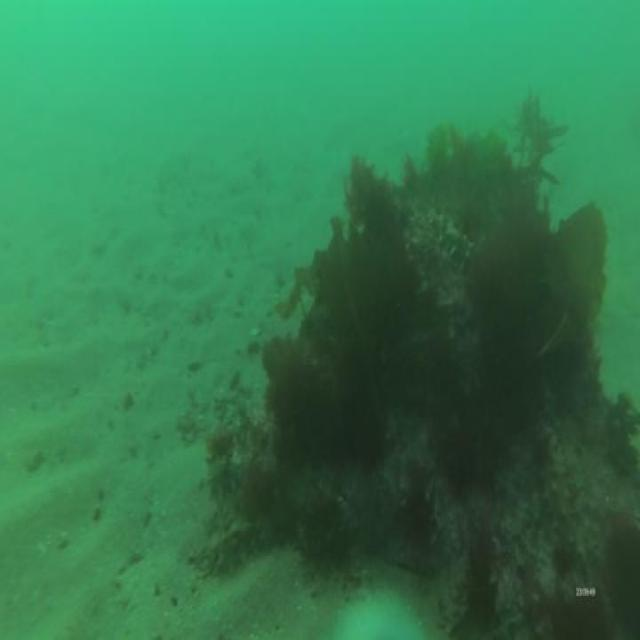waterweeds: (201, 93, 640, 640)
